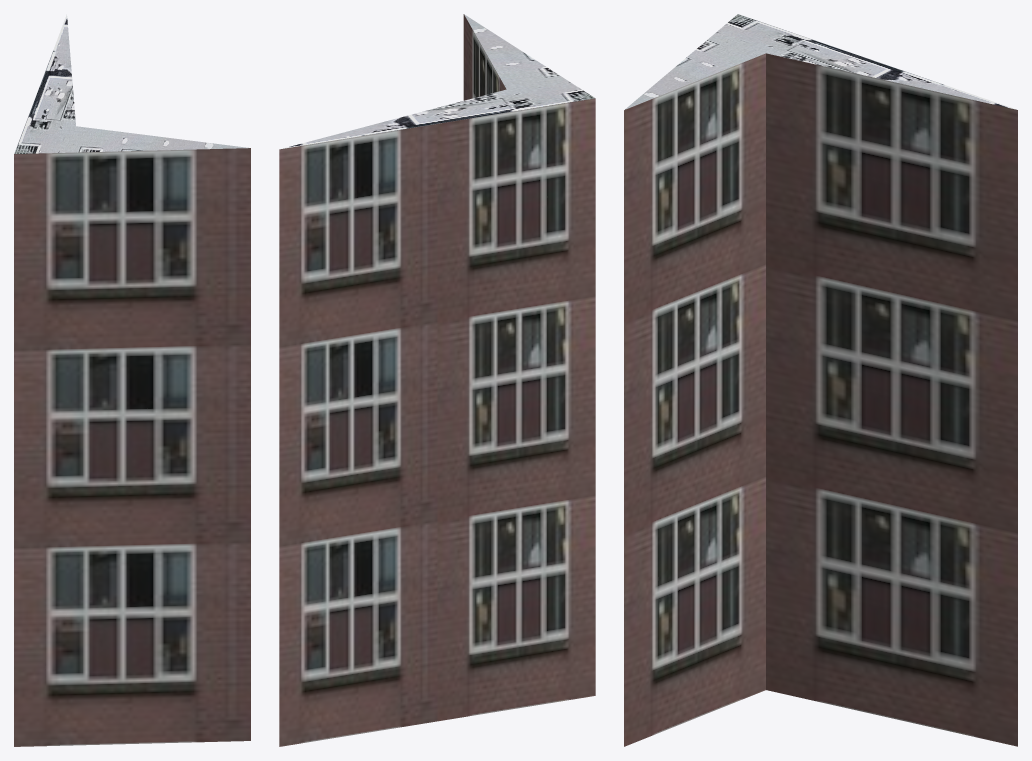
File: ResTex__4196.fbx
3 views of the same model, side by side, from view 1: azimuth 30°, elevation 25°; view 2: azimuth 150°, elevation 25°; view 3: azimuth 270°, elevation 25° (orthographic). The views are drawn at different scales.
Visible parts, largest first — view 1: CityEngineMaterial_12_m, CityEngineMaterial_8_m; view 2: CityEngineMaterial_12_m, CityEngineMaterial_8_m; view 3: CityEngineMaterial_12_m, CityEngineMaterial_8_m.
Part boxes in pixels (x1,y1,x2,y2): CityEngineMaterial_12_m: [14, 148, 250, 746]; CityEngineMaterial_8_m: [14, 14, 248, 153]; CityEngineMaterial_12_m: [279, 14, 595, 746]; CityEngineMaterial_8_m: [280, 14, 594, 149]; CityEngineMaterial_12_m: [624, 53, 1017, 746]; CityEngineMaterial_8_m: [625, 14, 1015, 109].
Size of the model in its own units: 2.92 by 9 by 5.05.
Materials: 2 (2 with a texture image).
